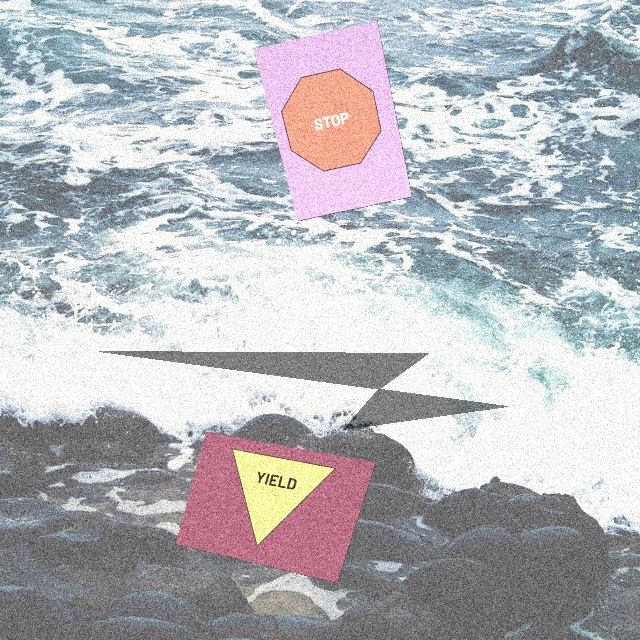STOP: (274, 62, 389, 178)
YIELD: (208, 444, 336, 560)
